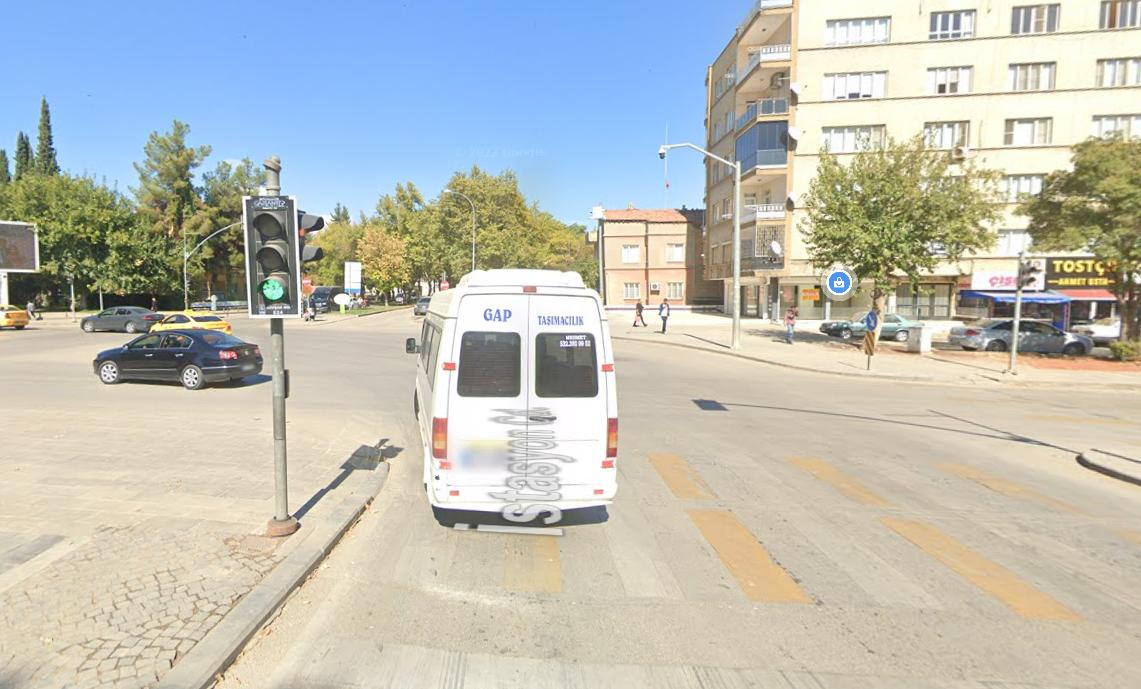greenlight: (241, 195, 296, 313)
